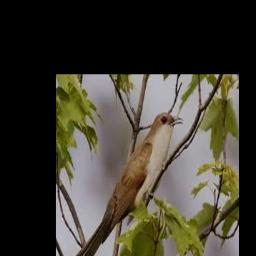Cuckoo: (62, 112, 184, 256)
